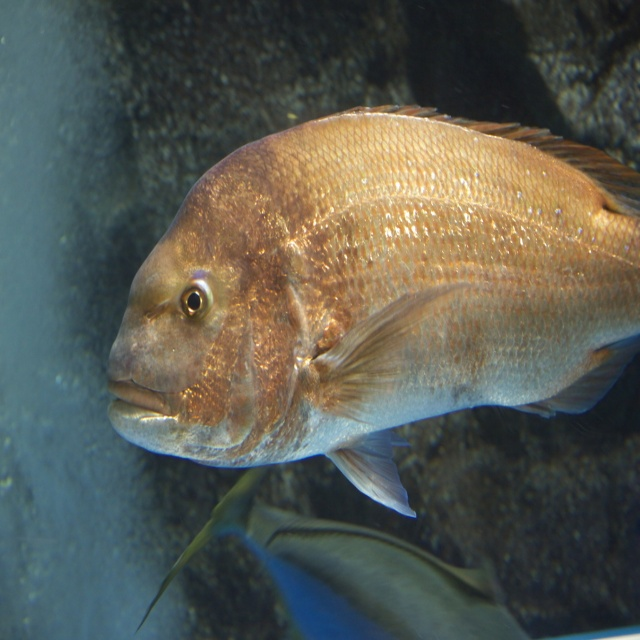Fish: (108, 104, 640, 517), (136, 459, 531, 640)
